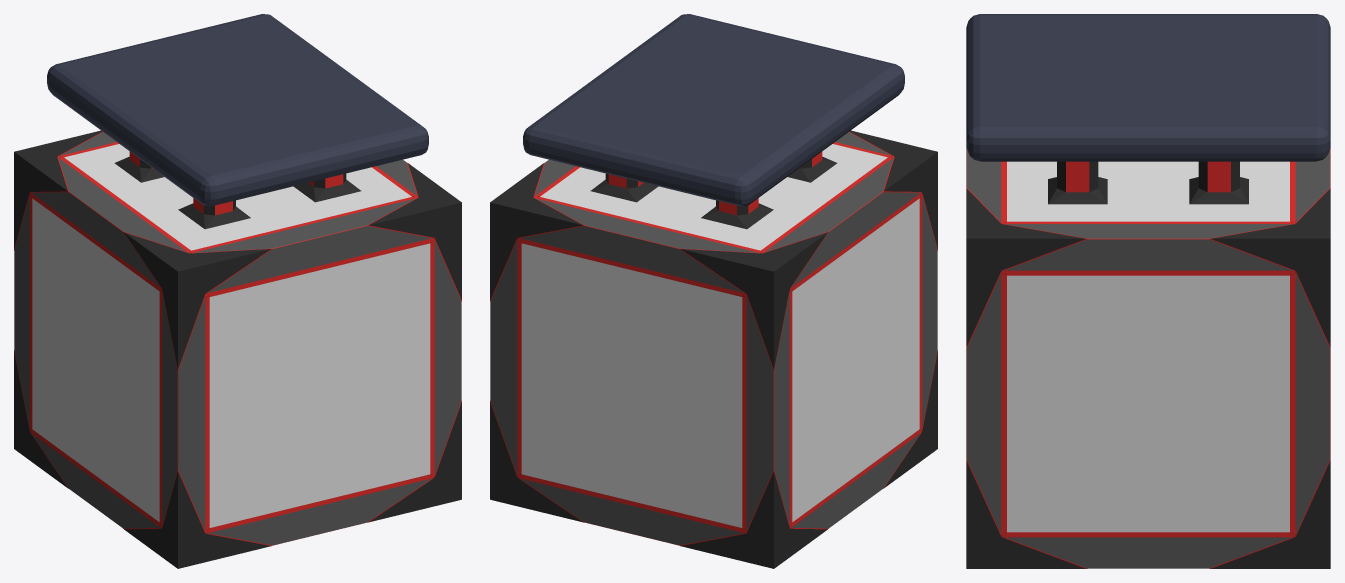
The model's file is conveyorBeltPlatform.fbx.
3 renders of one model, left to right at view 1: azimuth 30°, elevation 25°; view 2: azimuth 150°, elevation 25°; view 3: azimuth 270°, elevation 25°, orthographic. The views are drawn at different scales.
Visible parts, largest first — view 1: Cube; view 2: Cube; view 3: Cube.
Part boxes in pixels (bbox=[...]): Cube: bbox=[14, 14, 461, 568]; Cube: bbox=[490, 14, 937, 568]; Cube: bbox=[966, 14, 1330, 568].
Bounding box in the file's own units: 200 × 255 × 200.
